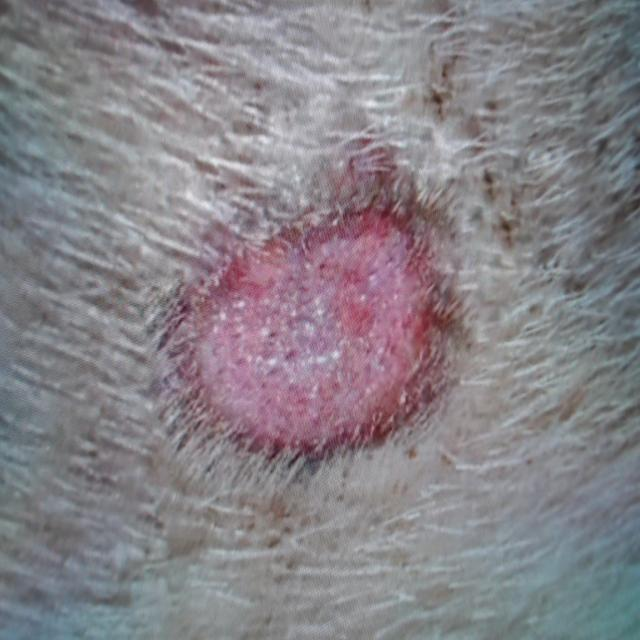ringworm: (140, 146, 482, 512)
